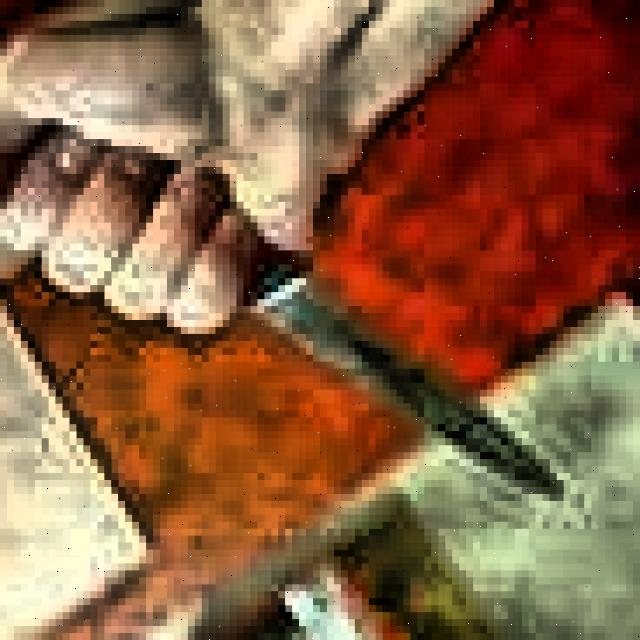knife: (46, 129, 564, 504)
